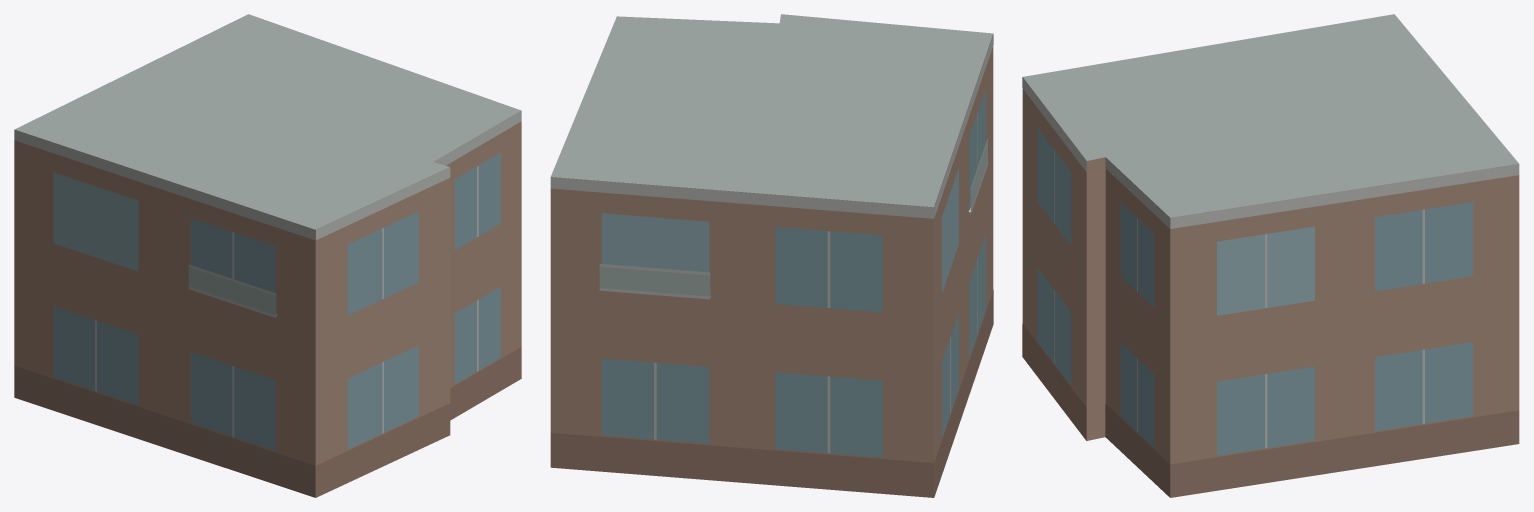
File: survey-upis-32986058.glb
3 views of the same model, side by side, from view 1: azimuth 30°, elevation 25°; view 2: azimuth 150°, elevation 25°; view 3: azimuth 270°, elevation 25° (orthographic). The views are drawn at different scales.
Parts seen in each view (by area): view 1: survey-upis-32986058.tmp; view 2: survey-upis-32986058.tmp; view 3: survey-upis-32986058.tmp.
Part boxes in pixels (left/top/right/bottom): survey-upis-32986058.tmp: left=14, top=14, right=521, bottom=497; survey-upis-32986058.tmp: left=550, top=14, right=993, bottom=497; survey-upis-32986058.tmp: left=1022, top=14, right=1519, bottom=497.
Size of the model in its own units: 9.53 by 6.1 by 9.82.
